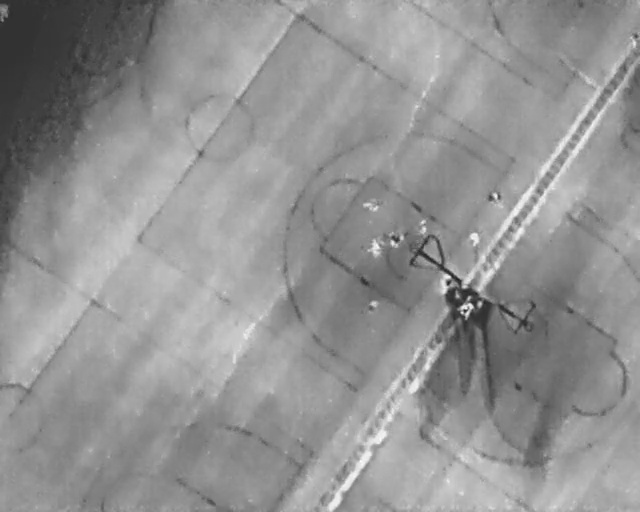Person: (453, 297, 477, 321), (437, 272, 456, 296), (387, 229, 406, 248), (367, 238, 385, 258), (361, 197, 381, 212), (487, 189, 502, 207), (468, 229, 482, 247), (417, 217, 428, 237), (629, 32, 639, 50), (367, 299, 380, 312)
